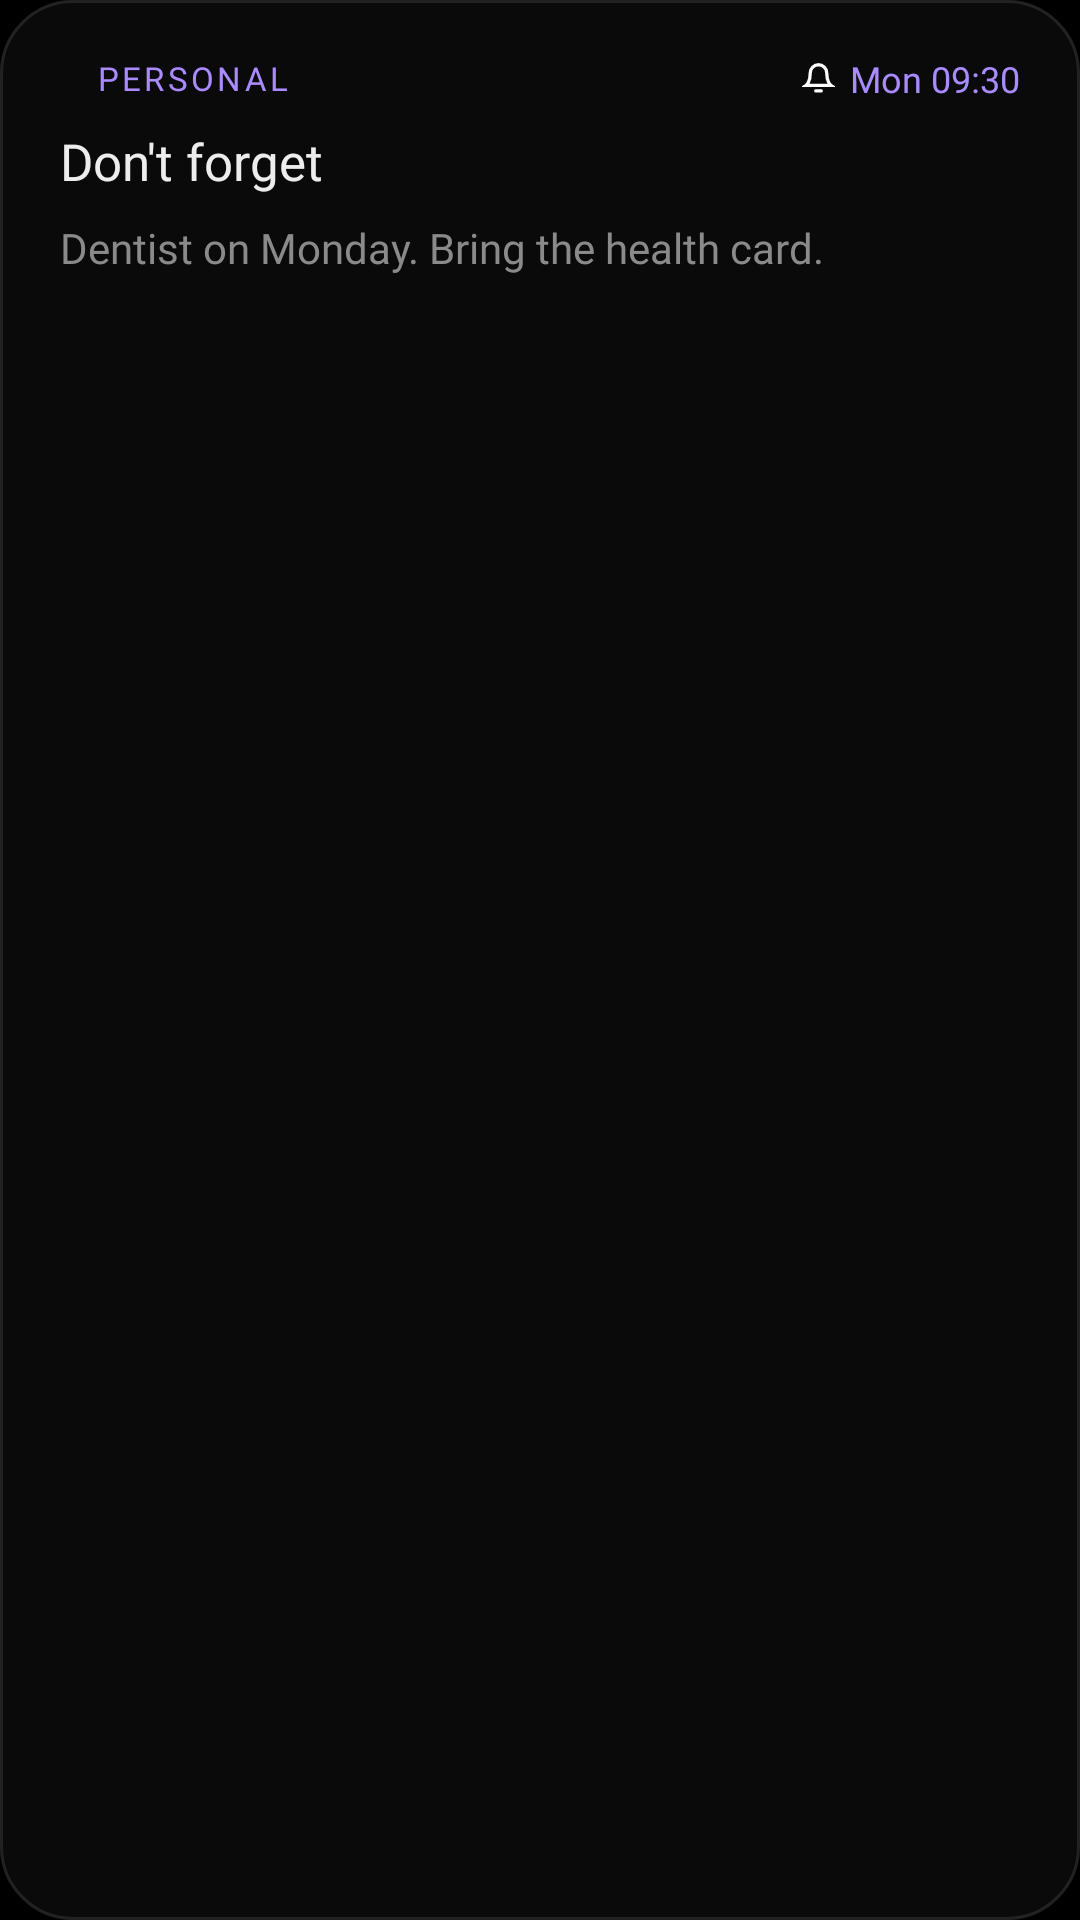

Screen size 1080×1920. Icon name, then its box in pixels as (x1,y1,x2,y2):
Reminder: (802,63,835,93)
